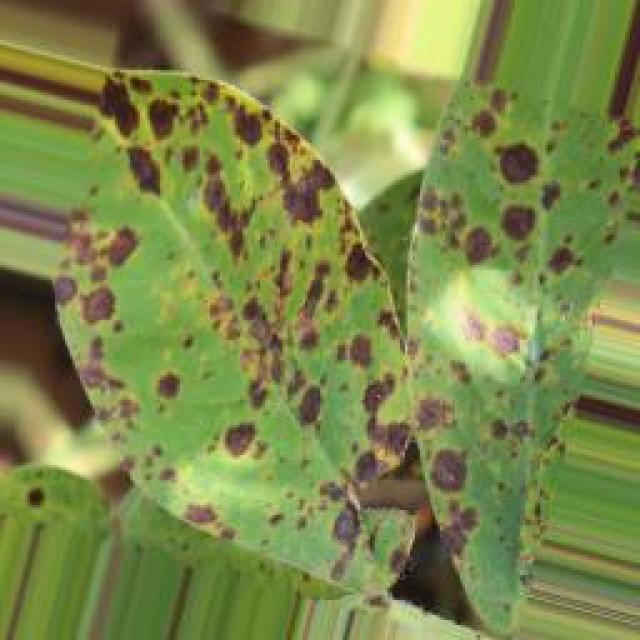Yellowish: (28, 32, 416, 596), (359, 34, 640, 583)
